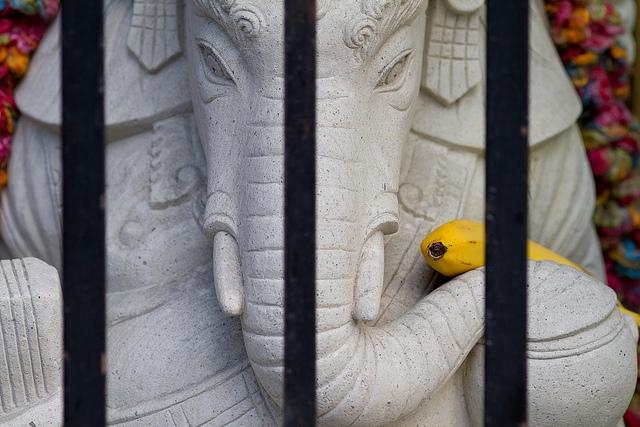banana: (421, 220, 624, 308)
